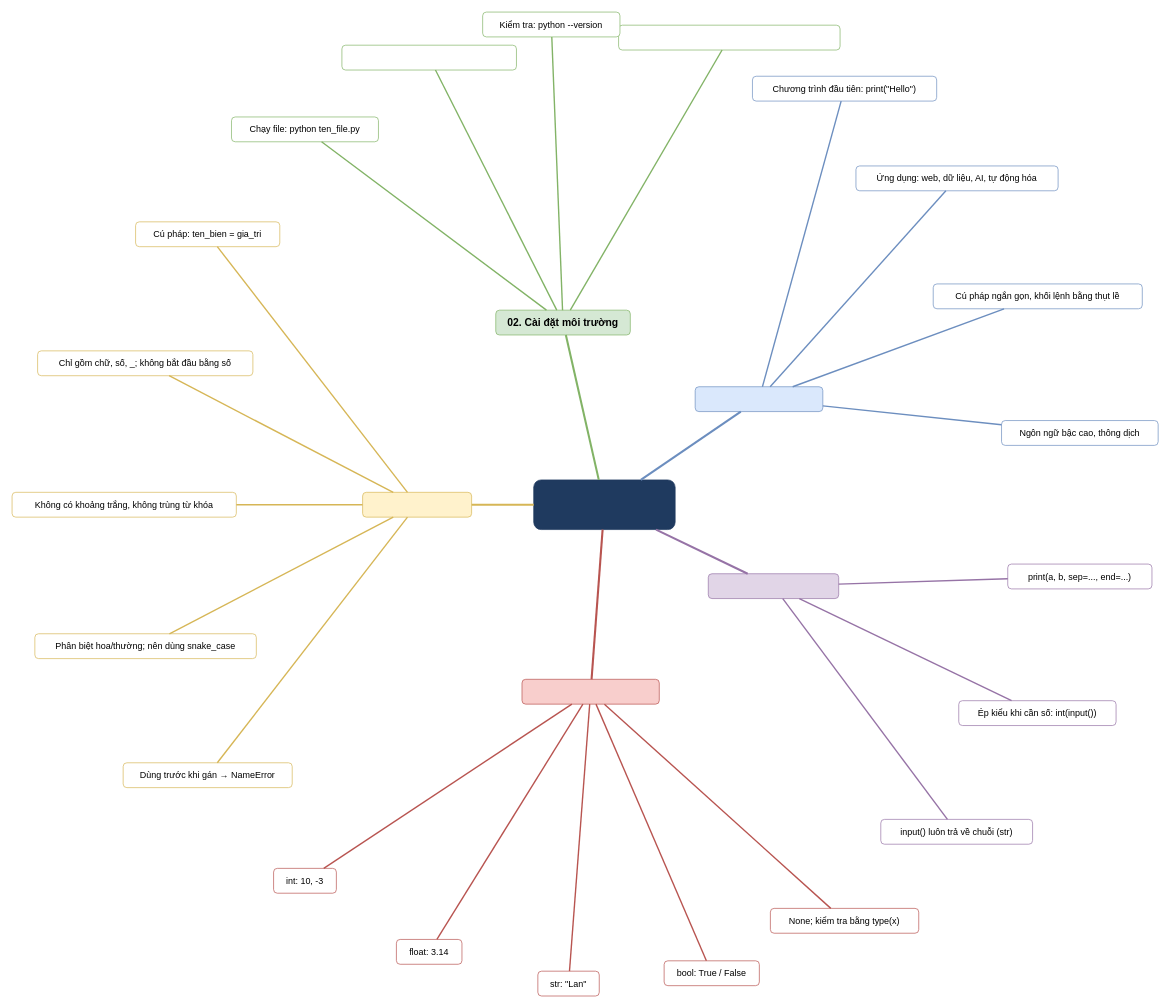
The diagram is 1170 pixels wide and 1008 high, and some of its shapes have lost their labels. Here are the shapes that lost their labels. From the top down, the centre of each, then its label:
the point at 428,57: Editor: VS Code, PyCharm, Jupyter
the point at 729,37: Tải Python từ python.org, tick "Add to PATH"
the point at 758,399: 01. Giới thiệu Python
the point at 417,504: 03. Khai báo biến
the point at 604,504: Python cơ bản (Lesson 01–05)
the point at 773,586: 05. Nhập xuất dữ liệu
the point at 590,691: 04. Kiểu dữ liệu cơ bản
